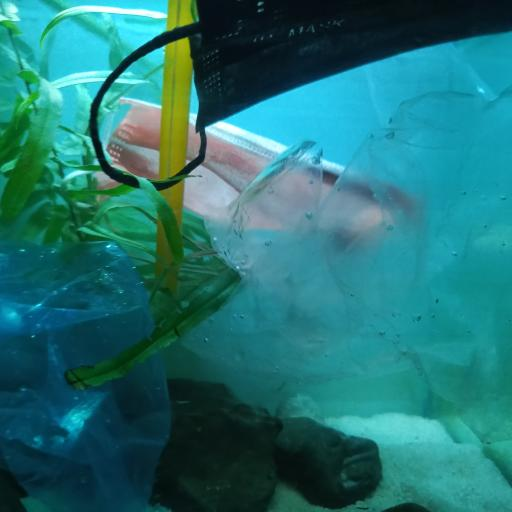mask: (92, 0, 512, 193), (97, 94, 412, 252)
plastic_bag: (177, 84, 512, 396), (1, 240, 176, 512)
plastic_straw: (150, 0, 199, 300)
